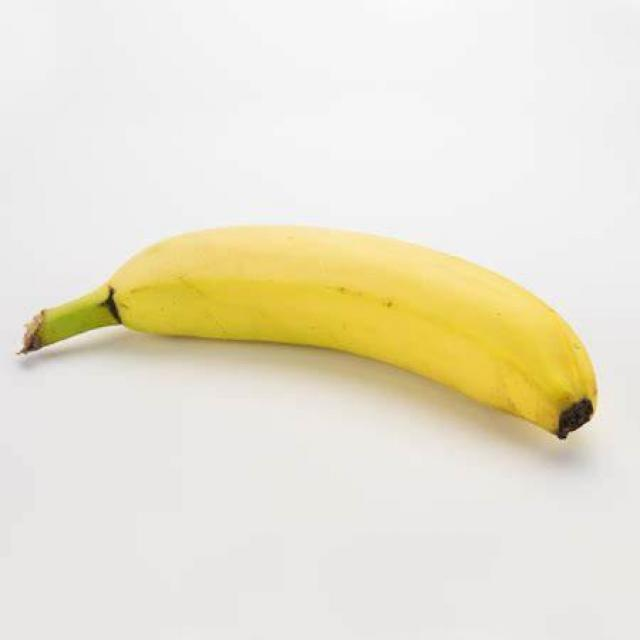Banana: (18, 220, 600, 437)
